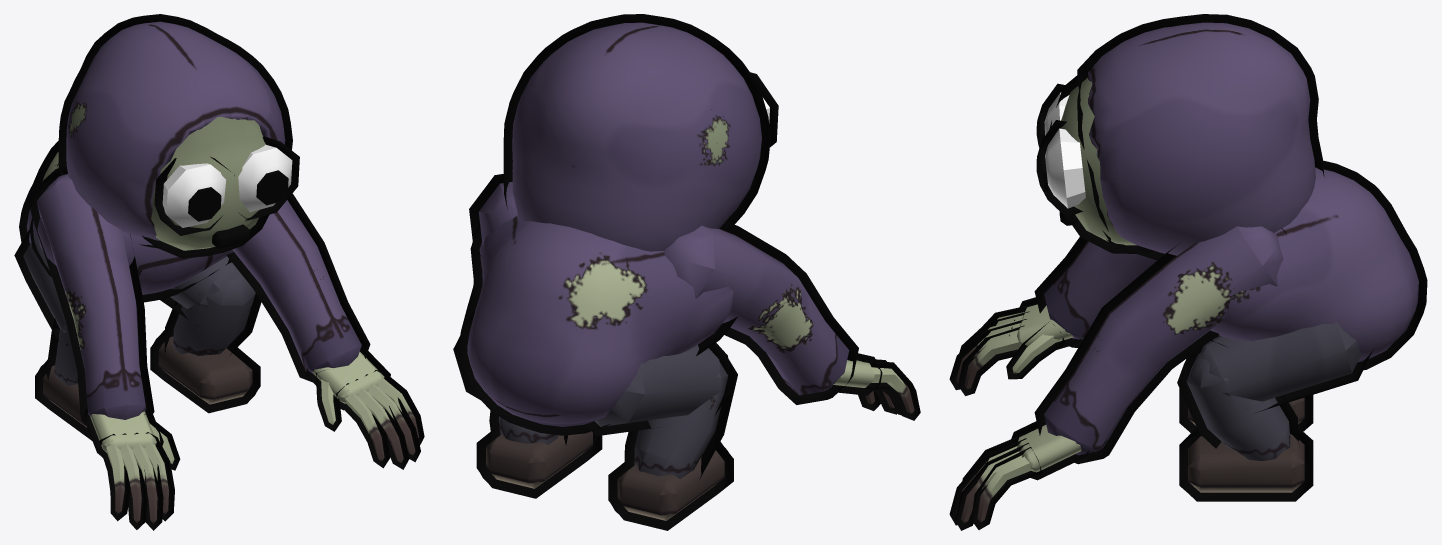
The model's file is hunter.fbx.
The picture shows the model from 3 angles, left to right: view 1: azimuth 30°, elevation 25°; view 2: azimuth 150°, elevation 25°; view 3: azimuth 270°, elevation 25°; orthographic projection. The views are drawn at different scales.
Visible parts, largest first — view 1: hunter_head, hunter_arm_r, hunter_arm_l, hunter_leg_l, hunter_torso, hunter_leg_r; view 2: hunter_head, hunter_torso, hunter_arm_r, hunter_leg_r, hunter_leg_l, hunter_arm_l; view 3: hunter_head, hunter_torso, hunter_arm_l, hunter_leg_l, hunter_arm_r, hunter_leg_r.
Boxes of the visible parts, x1,y1,x2,y2 form: hunter_head: (58,14,299,258); hunter_arm_r: (28,166,180,530); hunter_arm_l: (226,193,424,469); hunter_leg_l: (150,274,261,413); hunter_torso: (14,141,256,341); hunter_leg_r: (35,318,92,440); hunter_head: (503,14,778,251); hunter_torso: (453,215,737,436); hunter_arm_r: (664,221,920,420); hunter_leg_r: (608,344,737,530); hunter_leg_l: (476,411,602,498); hunter_arm_l: (469,172,517,256); hunter_head: (1036,14,1324,260); hunter_torso: (1174,158,1427,413); hunter_arm_l: (949,226,1286,530); hunter_leg_l: (1177,335,1313,501); hunter_arm_r: (949,237,1156,395); hunter_leg_r: (1179,388,1313,432).
Size of the model in its own units: 358 by 430 by 426.
Materials: 1 (1 with a texture image).
